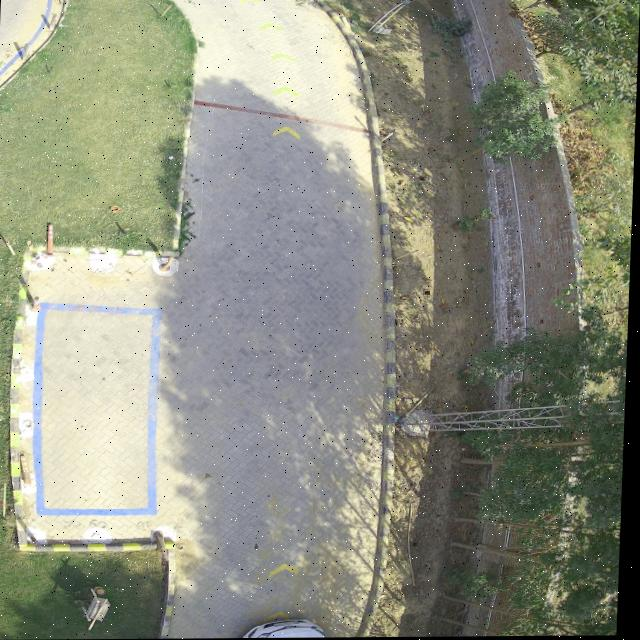car: (243, 618, 332, 638)
